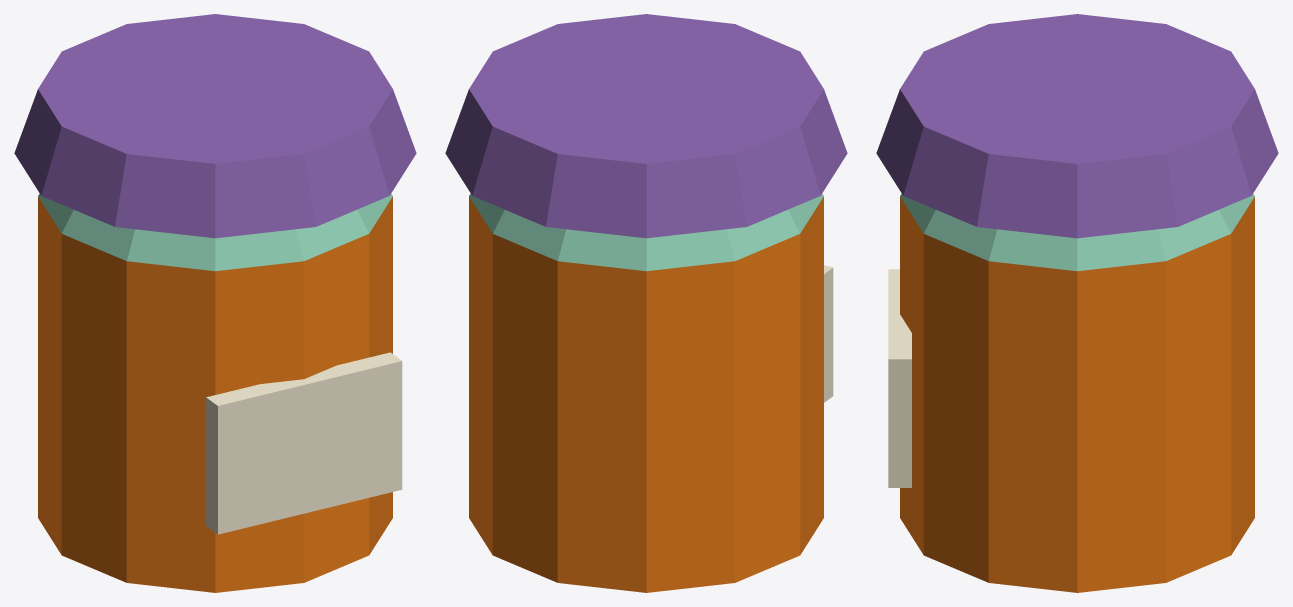
The model's file is jam_orange.obj.
The picture shows the model from 3 angles, left to right: view 1: azimuth 30°, elevation 25°; view 2: azimuth 150°, elevation 25°; view 3: azimuth 270°, elevation 25°; orthographic projection.
Parts seen in each view (by area): view 1: item; view 2: item; view 3: item.
Part boxes in pixels (box(x1,y1,x2,y2)): item: box(14, 14, 416, 592); item: box(445, 14, 847, 592); item: box(876, 14, 1278, 592).
Bounding box in the file's own units: 0.34 × 0.4 × 0.34.
